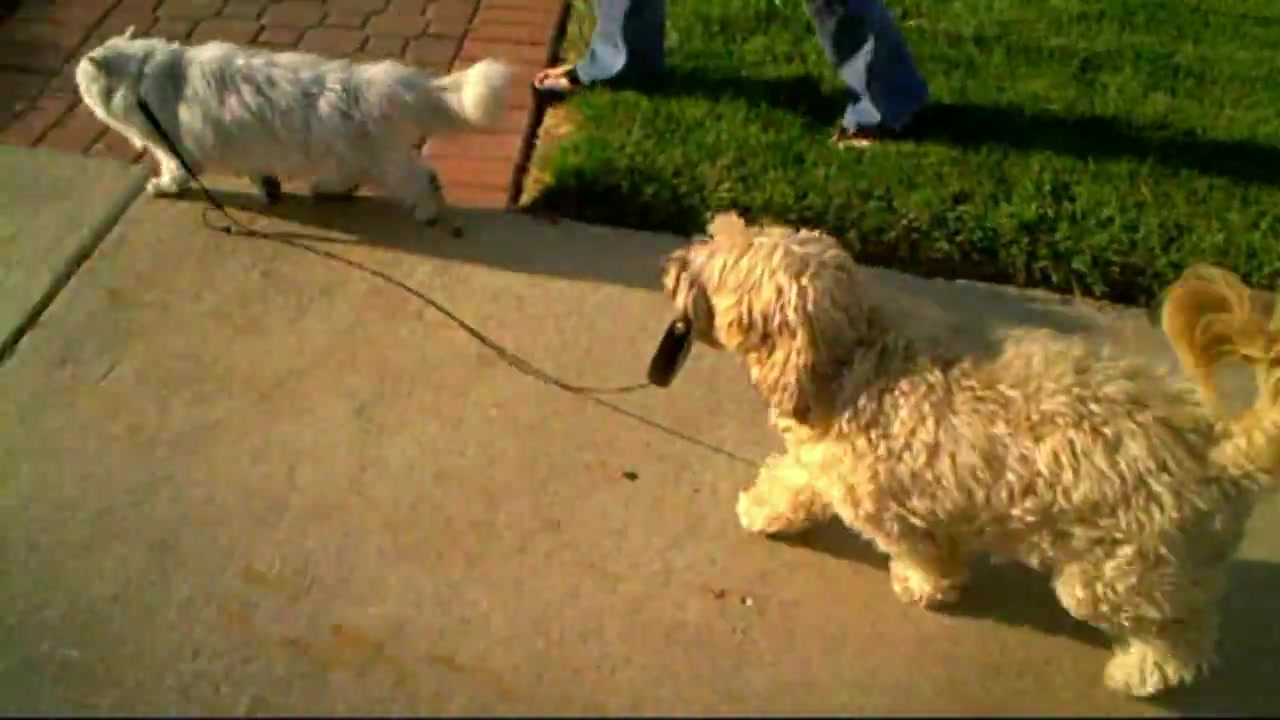dog: (659, 207, 1278, 702)
